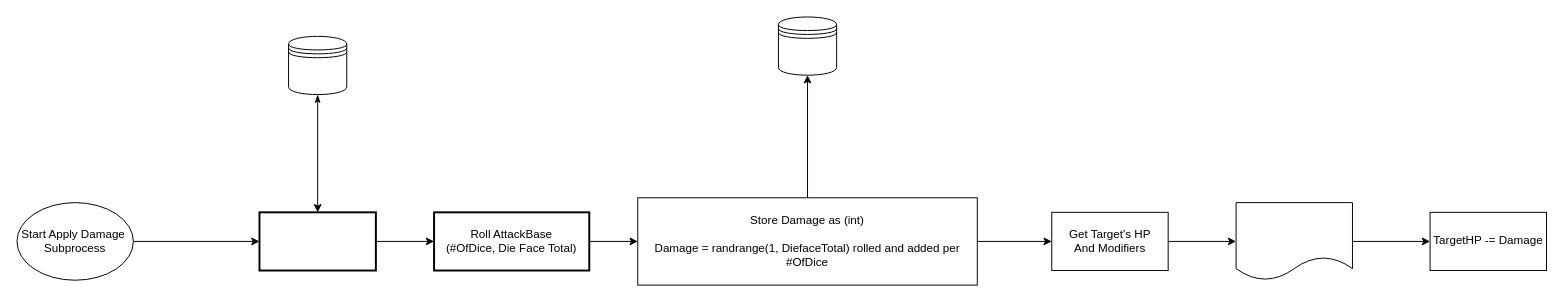
Image size: 1564x303. Some labels were removed from this diagram. The centre of each missing label's shape, as x and y in pixels:
"Read and Store Weapon Dice amount (Example: 2d6)" belongs at pixel 317 241.
"Show player hit result" belongs at pixel 1293 241.
